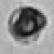correct: (3, 1, 51, 47)
